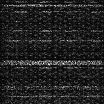lte: (1, 60, 104, 66), (1, 4, 104, 6), (1, 40, 104, 42), (1, 95, 104, 97)
